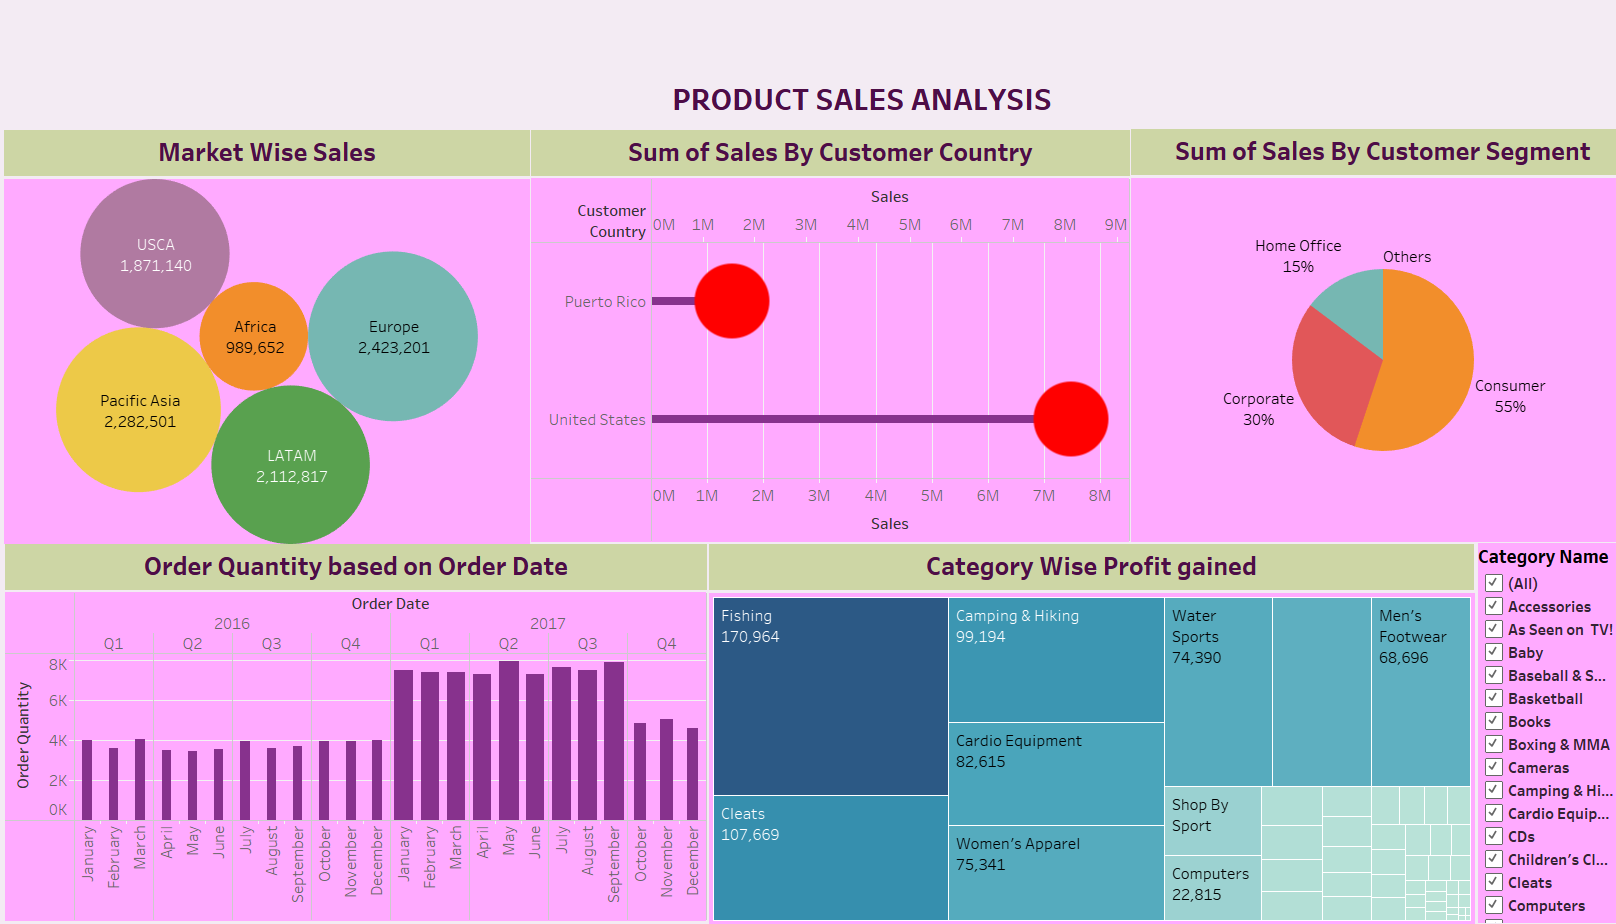

The page's visual inventory and layout, read from the dashboard file:
{"tool":"tableau","page":{"name":"PRODUCT SALES ANALYSIS","canvas":[1000,1000],"units":"permille","ordinal":0},"visuals":[{"type":"title","box":[4.7,10.2,990.7,62.7]},{"type":"worksheet","title":"Sum of Sales By Customer Segment","mark":"Pie","box":[656.4,74.3,293,480.2]},{"type":"worksheet","title":"Market Wise Sales","mark":"Circle","box":[1.2,75.5,305.8,481.4]},{"type":"worksheet","title":"Sum of Sales By Customer Country","mark":"Bar","rows":["Customer Country"],"cols":["Sales","Sales"],"box":[307.6,75.5,348.3,478.9]},{"type":"filter","title":"Sum of Sales By Customer Segment","param":"[federated.1plj0i50ypyrks104ucj40clbvt7].[none:Category Name:nk]","box":[858.1,555.7,93,441.7]},{"type":"worksheet","title":"Order Quantity based on Order Date","mark":"Bar","rows":["Order Quantity"],"cols":["Order Date","Order Date","Order Date"],"box":[1.7,557,408.1,437.9]},{"type":"worksheet","title":"Category Wise Profit gained","mark":"Automatic","box":[411.1,557,447.7,441.7]}]}

Visuals, with their boxes on the dashboard's canvas, which has no fixed pixel size, in thousandths of its width and height (x1, y1, x2, y2). These are canvas units, not pixel positions in the 1616x924 screenshot, which may show the page scaled, cropped or inside an application window:
title: 5 10 995 73
"Sum of Sales By Customer Segment" worksheet (Pie marks): 656 74 949 554
"Market Wise Sales" worksheet (Circle marks): 1 76 307 557
"Sum of Sales By Customer Country" worksheet (Bar marks): 308 76 656 554
"Sum of Sales By Customer Segment" filter: 858 556 951 997
"Order Quantity based on Order Date" worksheet (Bar marks): 2 557 410 995
"Category Wise Profit gained" worksheet: 411 557 859 999
